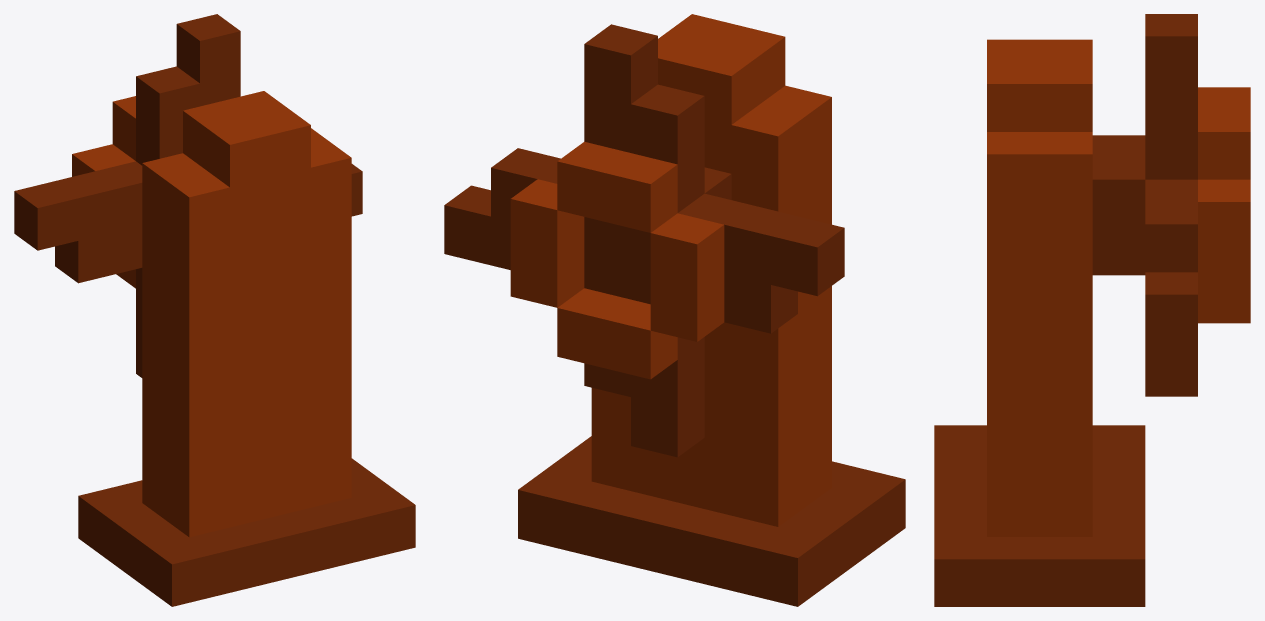
Rendered from BoatWheel.obj.
3 renders of one model, left to right at view 1: azimuth 30°, elevation 25°; view 2: azimuth 150°, elevation 25°; view 3: azimuth 270°, elevation 25°, orthographic. The views are drawn at different scales.
Bounding box in the file's own units: 8 × 11 × 6.
1 material, 1 textured.
